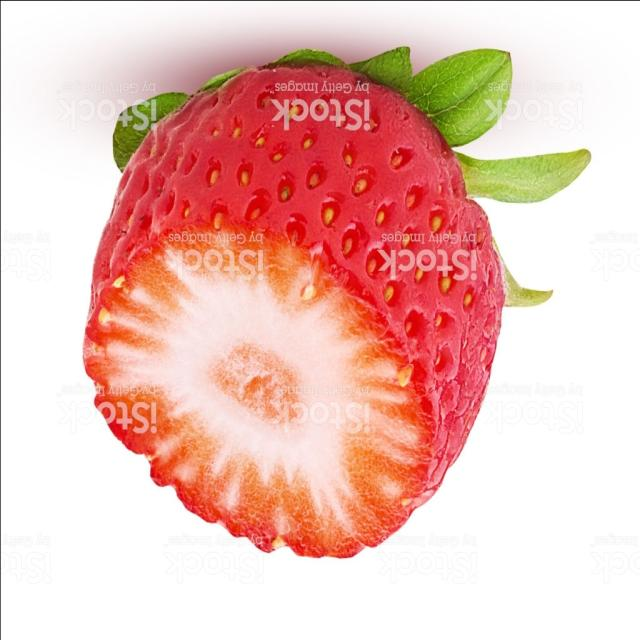strawberry: (74, 21, 596, 587)
